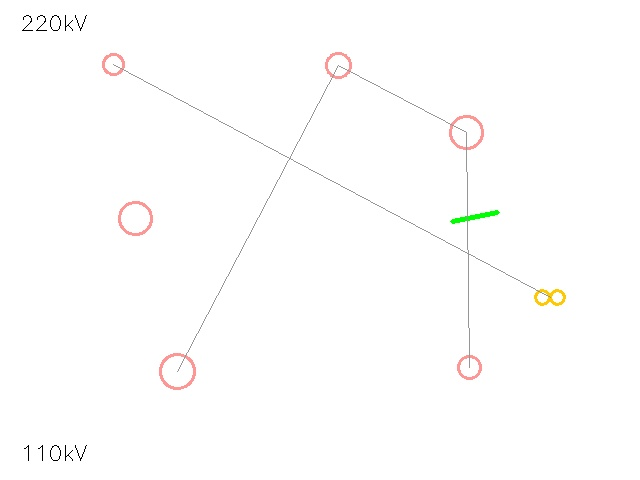busbar: (446, 188, 504, 246)
current_transformer: (92, 43, 134, 85)
feeder_terminal: (143, 337, 211, 405)
load_break_switch: (447, 345, 491, 389)
reactor: (434, 100, 498, 164)
transformer_2w: (531, 278, 569, 316)
voltage_transformer: (103, 186, 167, 250), (314, 41, 362, 89)
